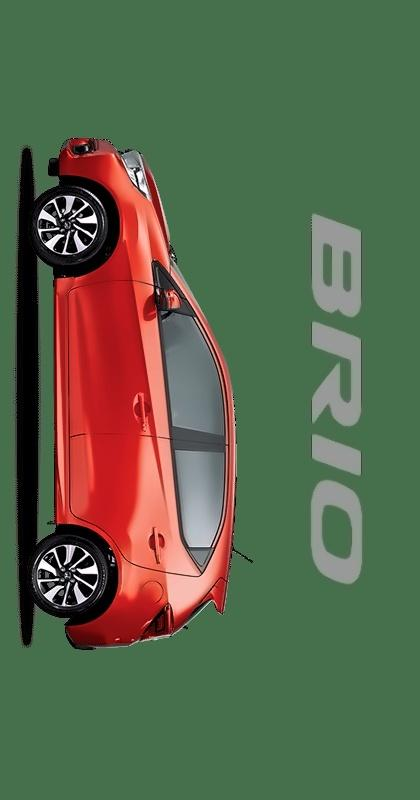Fender - -F-L-: (53, 186, 184, 288)
Fender - -R-L-: (64, 521, 223, 622)
Front bumper: (52, 137, 133, 200)
Headlight - -L-: (116, 142, 149, 200)
Passenger-s door - -F-L-: (52, 282, 239, 456)
Passenger-s door - -R-L-: (50, 436, 241, 576)
Rear bumper: (60, 616, 144, 653)
Rear light - -L-: (139, 600, 175, 645)
Side bumper - -L-: (45, 280, 94, 527)
Side mirror - -L-: (154, 288, 185, 314)
